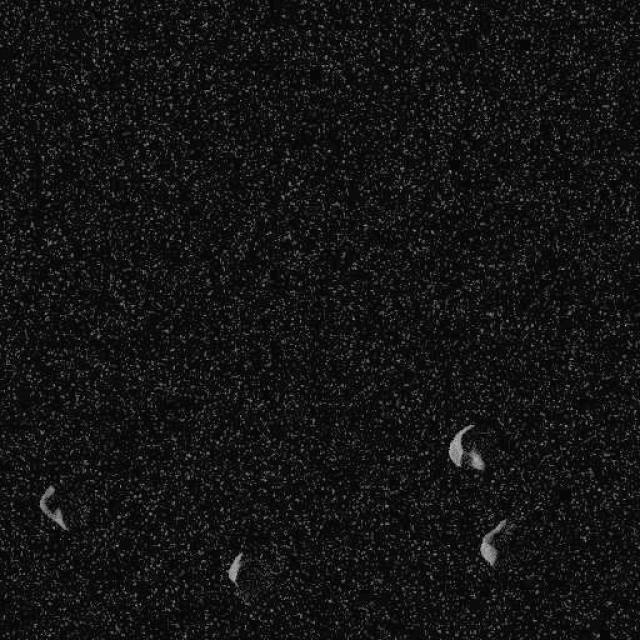D2: (446, 422, 485, 472), (478, 518, 508, 566), (38, 484, 68, 531), (225, 550, 244, 588)
